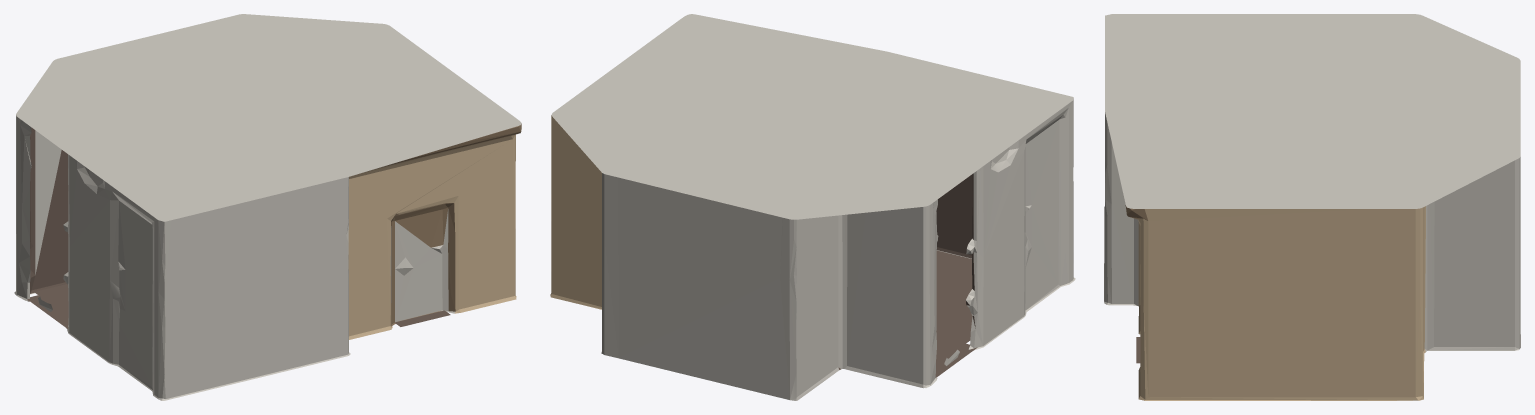
The model's file is etape-1.glb.
The picture shows the model from 3 angles, left to right: view 1: azimuth 30°, elevation 25°; view 2: azimuth 150°, elevation 25°; view 3: azimuth 270°, elevation 25°; orthographic projection. The views are drawn at different scales.
Visible parts, largest first — view 1: geometry_0; view 2: geometry_0; view 3: geometry_0.
Boxes of the visible parts, x1,y1,x2,y2 form: geometry_0: (14, 14, 521, 400); geometry_0: (550, 14, 1075, 400); geometry_0: (1104, 14, 1520, 400).
Size of the model in its own units: 0.8183 by 0.3733 by 0.7361.
